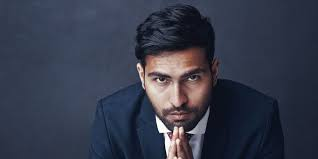Indian_Male: (142, 32, 221, 129)
